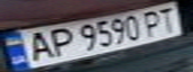0: (121, 12, 145, 42)
5: (93, 18, 115, 48)
9: (75, 21, 100, 52), (109, 16, 130, 45)
A: (18, 29, 57, 62)
P: (42, 25, 75, 57), (139, 8, 166, 37)
T: (154, 4, 181, 32)
